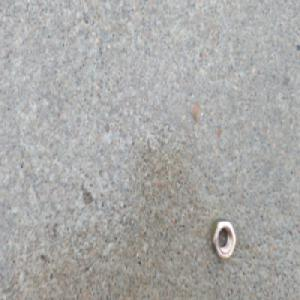Nut: (210, 217, 236, 261)
